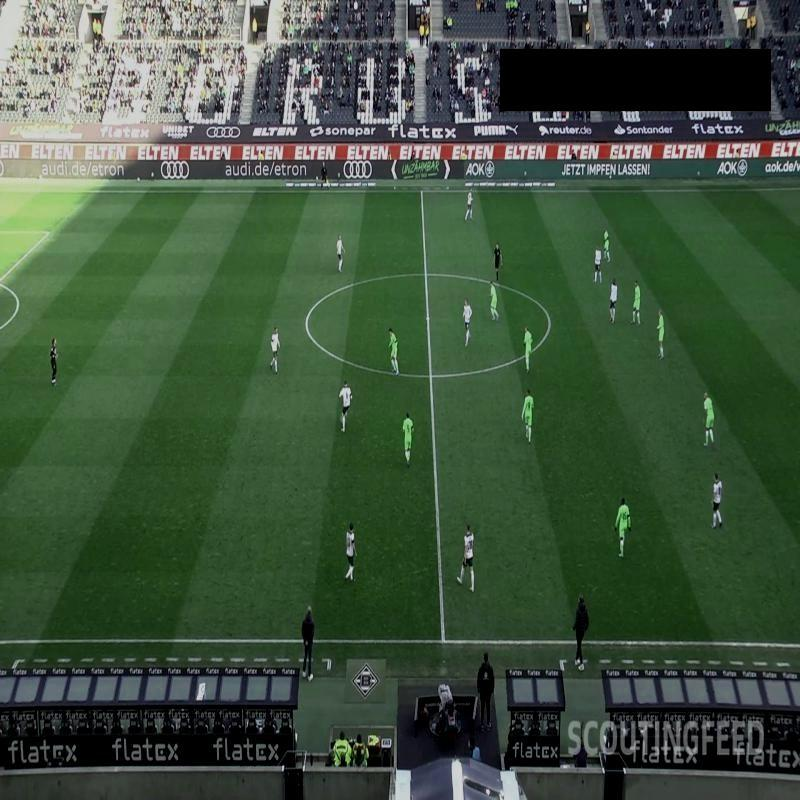13: (415, 184, 430, 198)
14: (418, 266, 432, 280)
15: (423, 368, 438, 382)
16: (435, 632, 452, 647)
9: (42, 224, 56, 238)
c: (301, 314, 314, 328), (543, 315, 557, 328)
